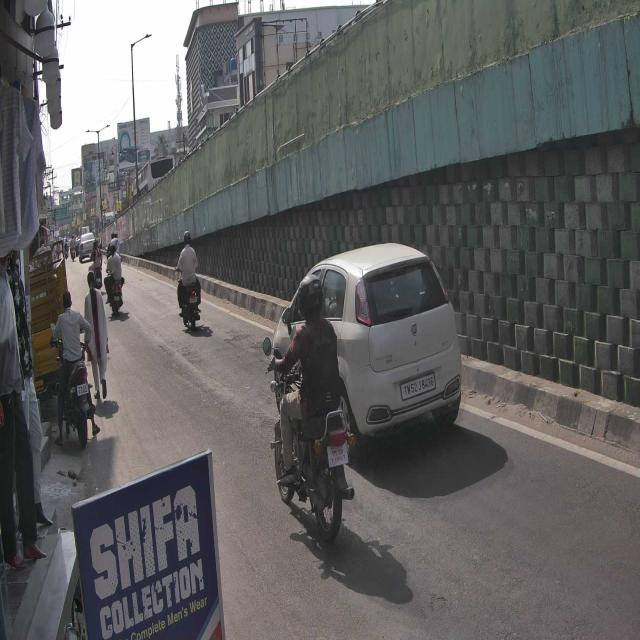single_rider: (260, 273, 358, 540)
